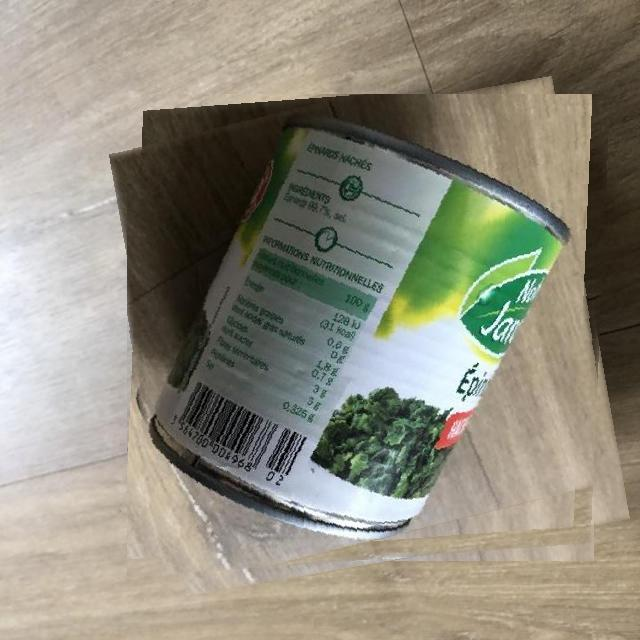recyclable: (127, 94, 612, 579)
